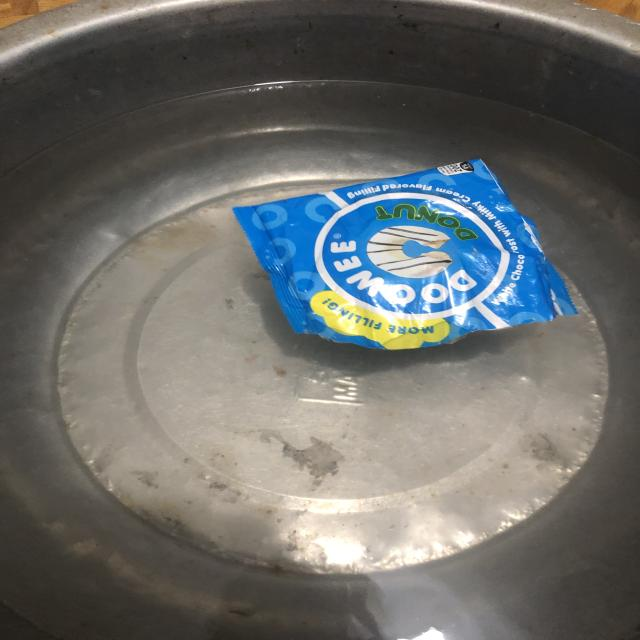Plastic Wrapper: (203, 136, 603, 362)
